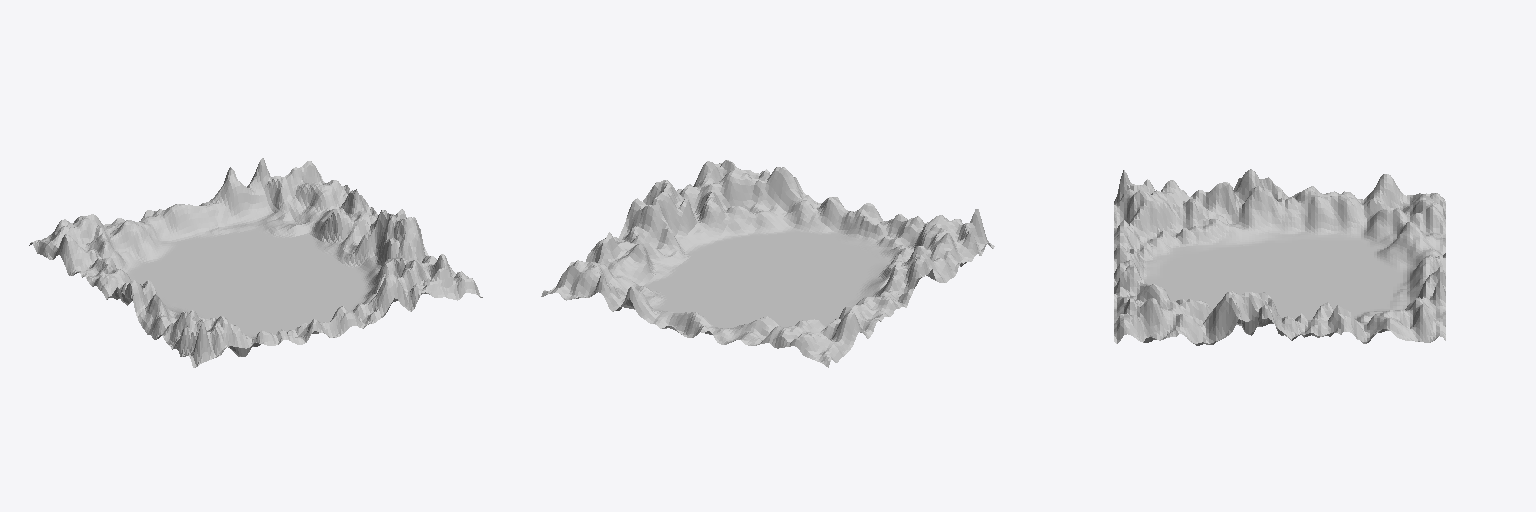
Rendered from environment.obj.
The picture shows the model from 3 angles: view 1: azimuth 30°, elevation 25°; view 2: azimuth 150°, elevation 25°; view 3: azimuth 270°, elevation 25°; orthographic projection.
Visible parts, largest first — view 1: Plane; view 2: Plane; view 3: Plane.
Part boxes in pixels (x1,y1,x2,y2): Plane: (29,158,482,367); Plane: (541,160,994,367); Plane: (1114,169,1445,345).
Bounding box in the file's own units: 320 × 56.08 × 320.